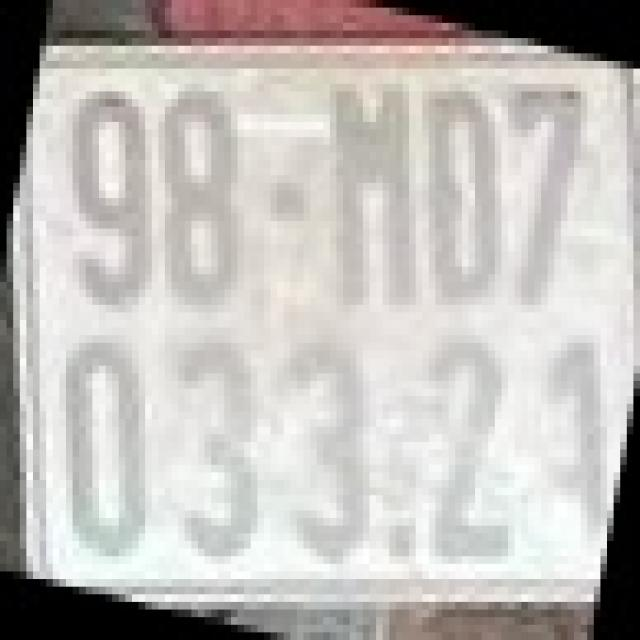0: (59, 335, 152, 556)
1: (534, 324, 614, 552)
2: (422, 335, 522, 564)
7: (508, 84, 587, 305)
8: (284, 335, 369, 556), (158, 84, 238, 305)
9: (171, 335, 264, 556), (66, 84, 158, 305)
D: (422, 84, 502, 297)
M: (326, 80, 426, 324)
